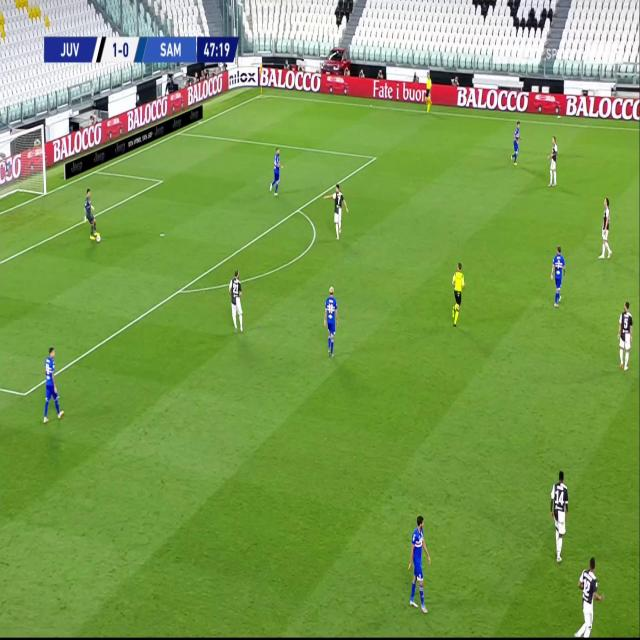ball: (94, 231, 101, 241)
player: (572, 551, 603, 637), (406, 509, 431, 612), (548, 464, 570, 560), (41, 342, 63, 422), (616, 296, 634, 370), (322, 281, 339, 358), (449, 258, 466, 326), (227, 266, 244, 333), (549, 243, 566, 308), (597, 194, 614, 257), (330, 181, 347, 239), (83, 183, 100, 241), (268, 145, 284, 196), (546, 133, 558, 186), (510, 120, 521, 165), (423, 68, 433, 114)
